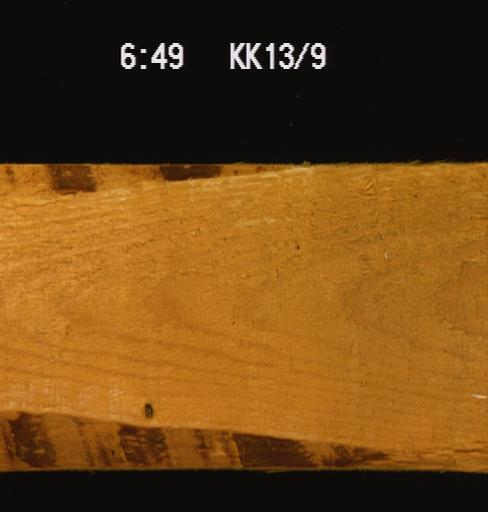small_knot: (137, 399, 156, 419)
wave: (0, 408, 487, 470), (0, 161, 312, 201)
